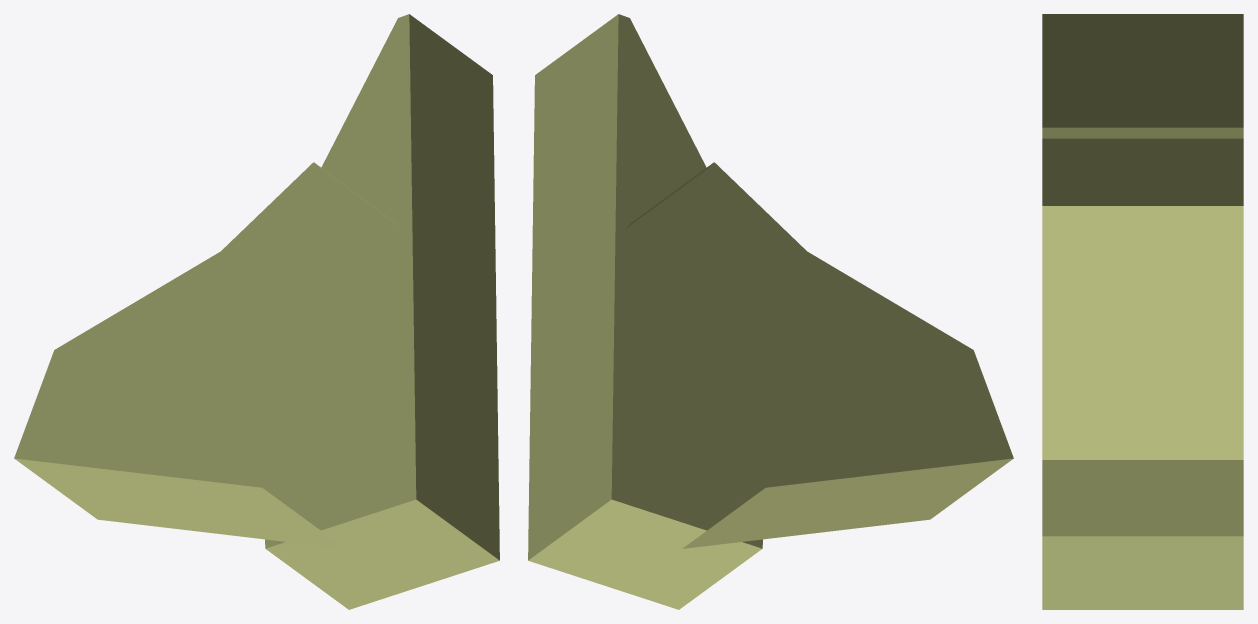
The picture shows the model from 3 angles, left to right: view 1: azimuth 30°, elevation 25°; view 2: azimuth 150°, elevation 25°; view 3: azimuth 270°, elevation 25°; orthographic projection. The views are drawn at different scales.
Visible parts, largest first — view 1: 0_0_2_0_0_1_0_1_1; view 2: 0_0_2_0_0_1_0_1_1; view 3: 0_0_2_0_0_1_0_1_1.
Boxes of the visible parts, x1,y1,x2,y2 form: 0_0_2_0_0_1_0_1_1: (14,14,499,609); 0_0_2_0_0_1_0_1_1: (528,14,1013,609); 0_0_2_0_0_1_0_1_1: (1042,14,1243,609).
Size of the model in its own units: 24.99 by 29.66 by 9.
